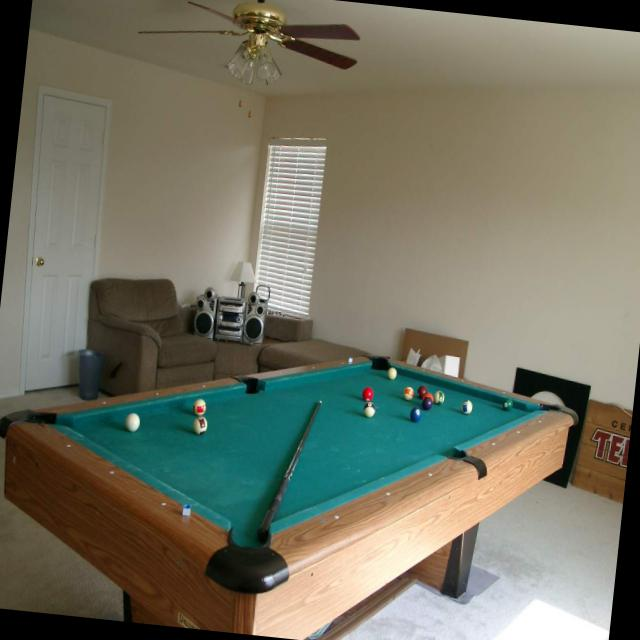2001: (251, 134, 325, 317)
armchair crop: (87, 276, 216, 394)
ball occluded: (123, 411, 140, 431), (192, 415, 206, 434), (191, 397, 206, 414), (362, 400, 375, 417), (361, 385, 374, 400), (409, 406, 421, 420), (461, 398, 472, 412), (387, 366, 397, 378), (504, 395, 512, 410)
billard table: (0, 350, 578, 637)
ceiling beam: (30, 0, 640, 96)
chalk: (181, 501, 190, 515)
cue: (256, 399, 322, 540)
door bars: (24, 91, 105, 392)
fan: (140, 0, 358, 84)
floor -X: (0, 360, 624, 640)
litter bin: (78, 346, 101, 396)
seat crop: (257, 336, 366, 370)
tape: (192, 287, 265, 343)
wall clock: (240, 85, 640, 481), (0, 25, 264, 396)
